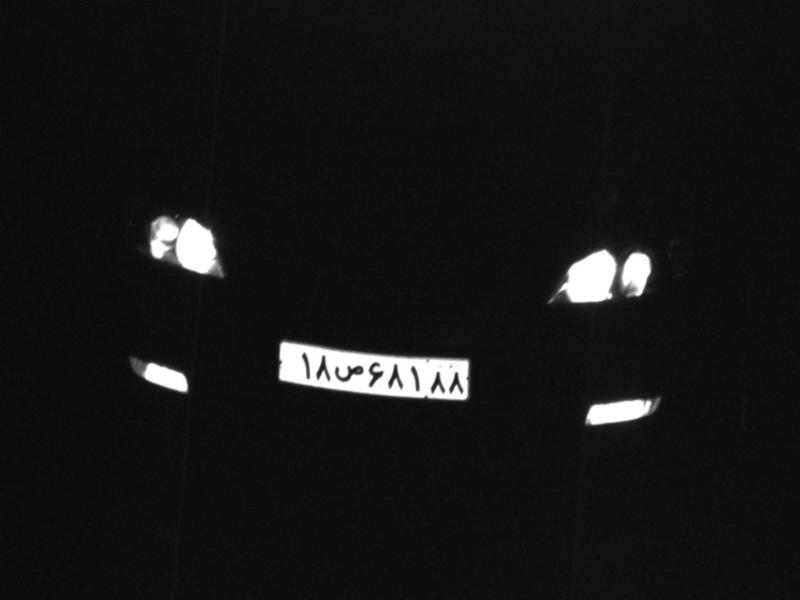Plate: (279, 337, 476, 405)
